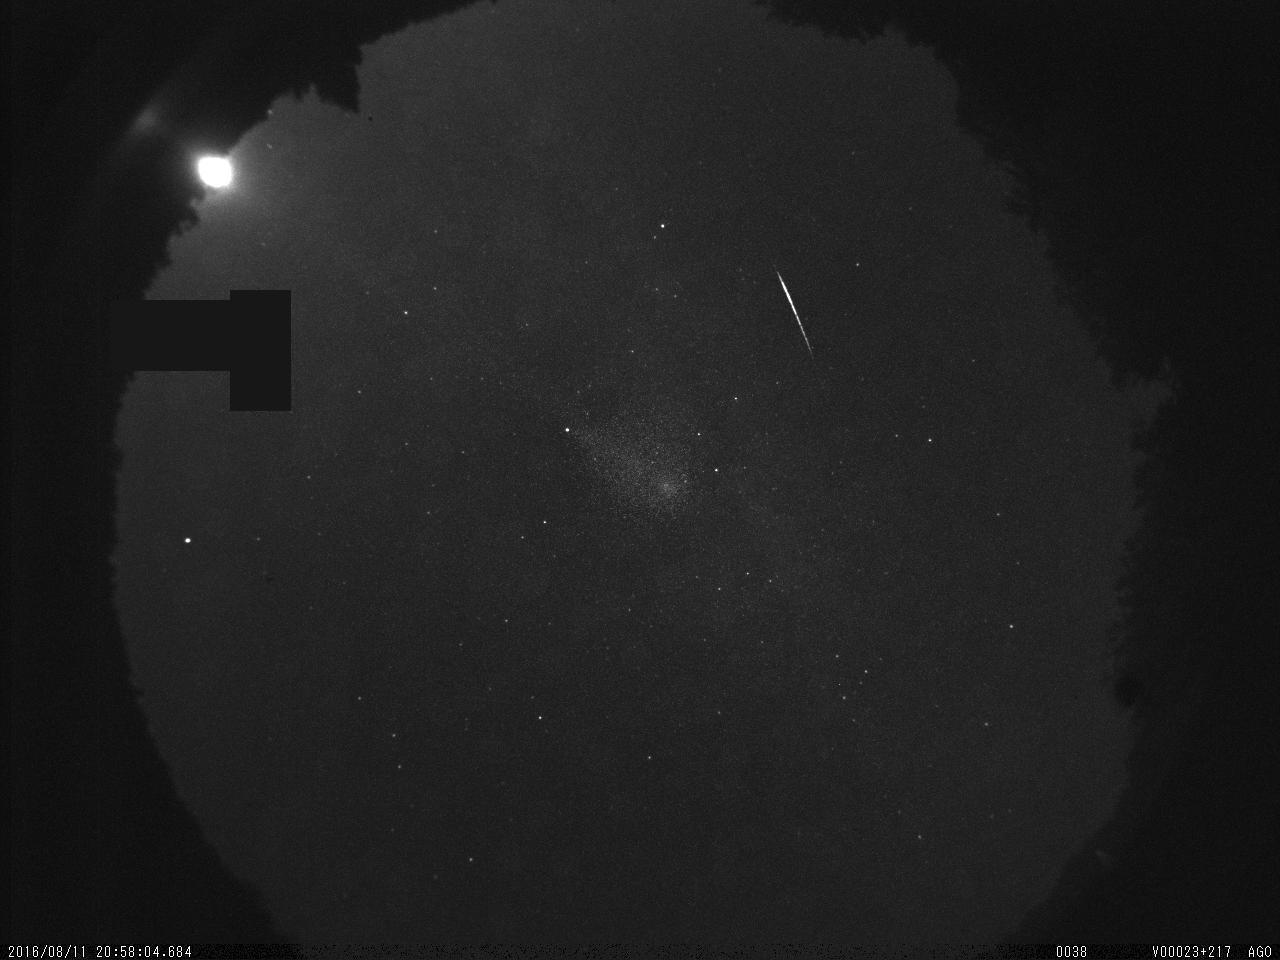Meteor: (773, 267, 815, 359)
